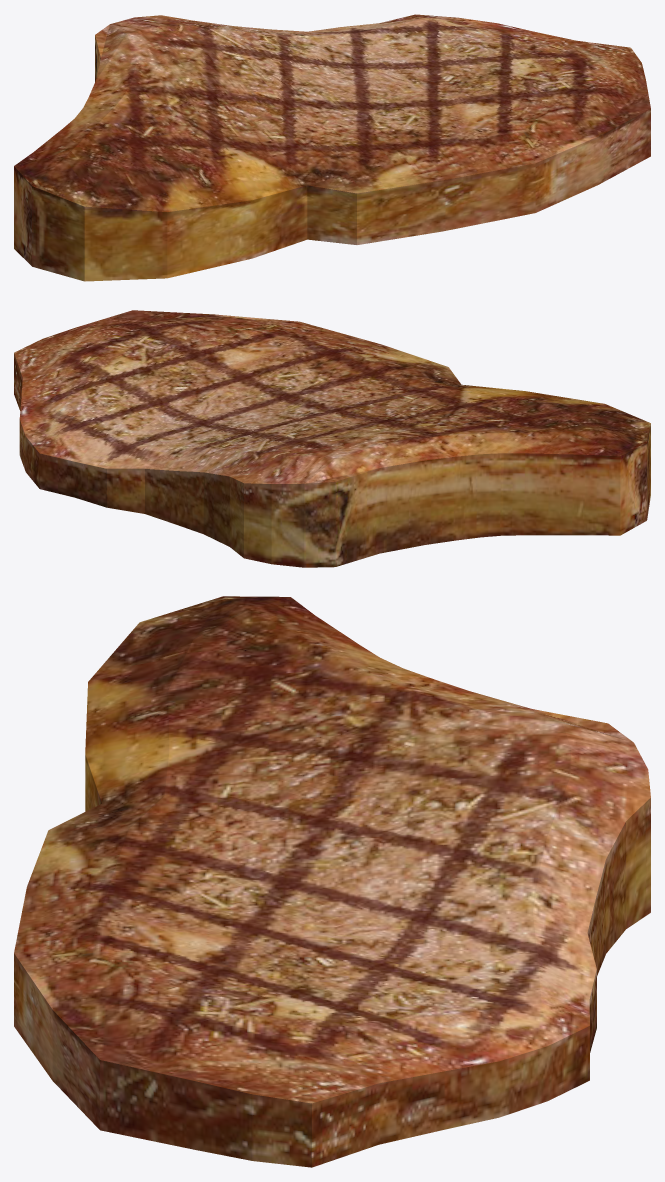
File: steak.obj
The picture shows the model from 3 angles, top to bottom: view 1: azimuth 30°, elevation 25°; view 2: azimuth 150°, elevation 25°; view 3: azimuth 270°, elevation 25°; orthographic projection. The views are drawn at different scales.
Visible parts, largest first — view 1: steak_Cube; view 2: steak_Cube; view 3: steak_Cube.
Boxes of the visible parts, x1=… form: steak_Cube: x1=14, y1=14, x2=650, y2=281; steak_Cube: x1=14, y1=310, x2=650, y2=567; steak_Cube: x1=14, y1=596, x2=650, y2=1167.
Size of the model in its own units: 32.35 by 5.07 by 19.25.
1 material, 1 textured.
